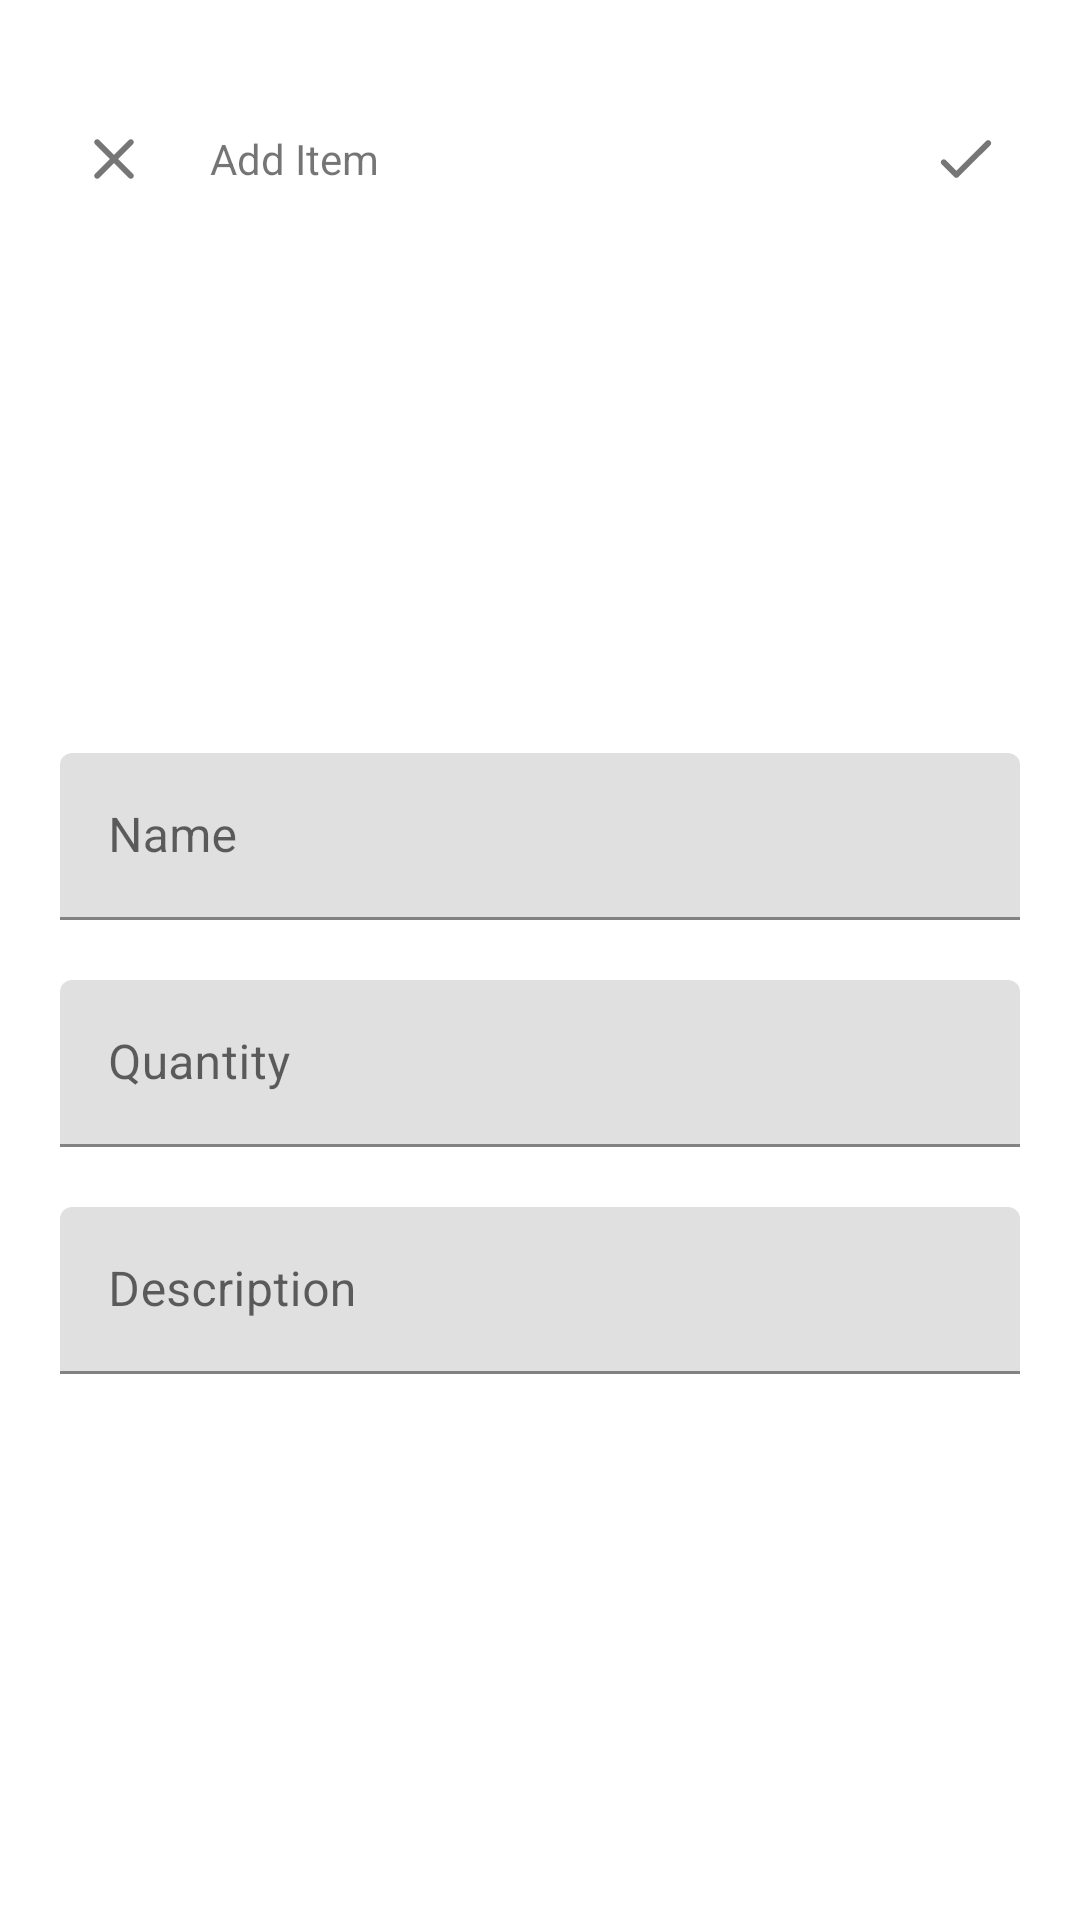

Screen size 1080 × 1920. Icon name, then its box in pixels as (x1, y1, x2, y2):
clear rounded: (94, 139, 134, 179)
done rounded: (941, 140, 991, 178)
